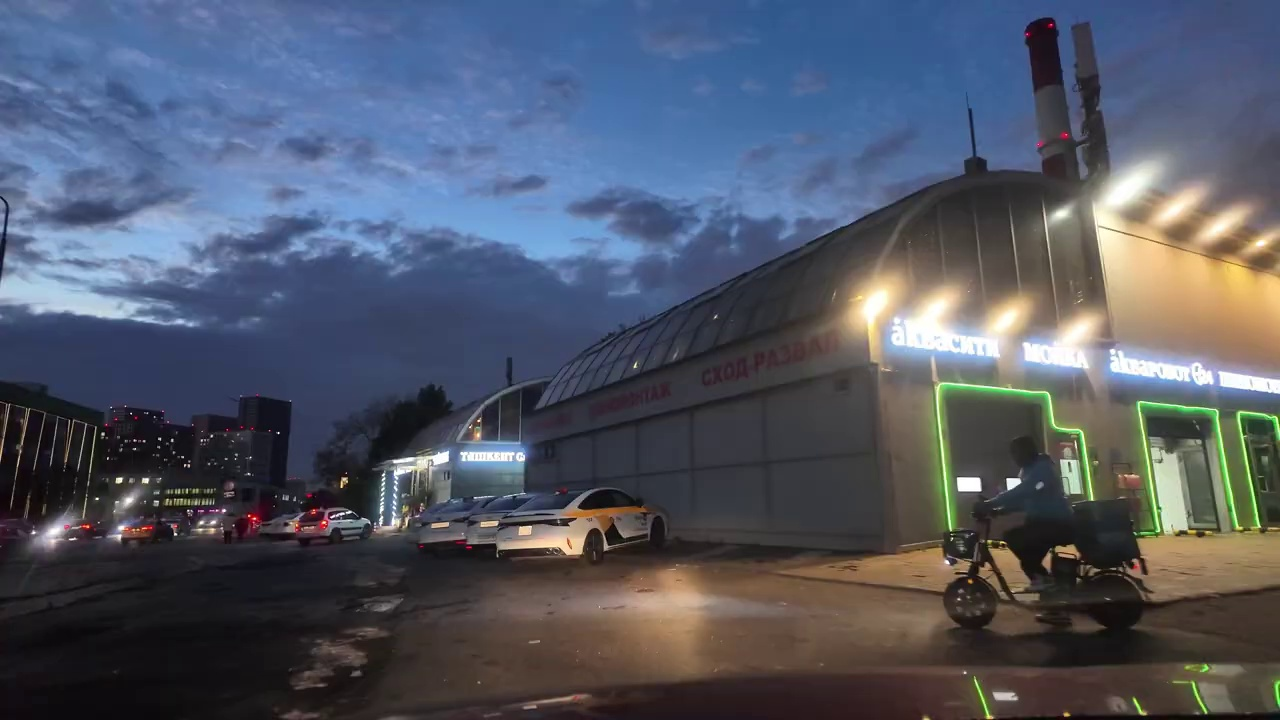acesa: (1105, 162, 1157, 212)
